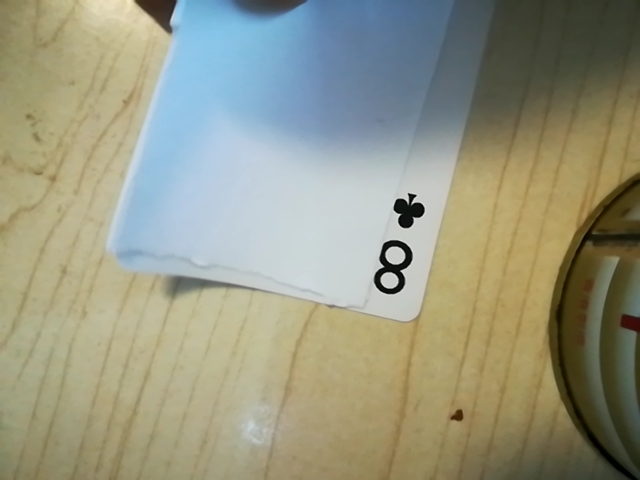mh 8: (359, 181, 434, 305)
